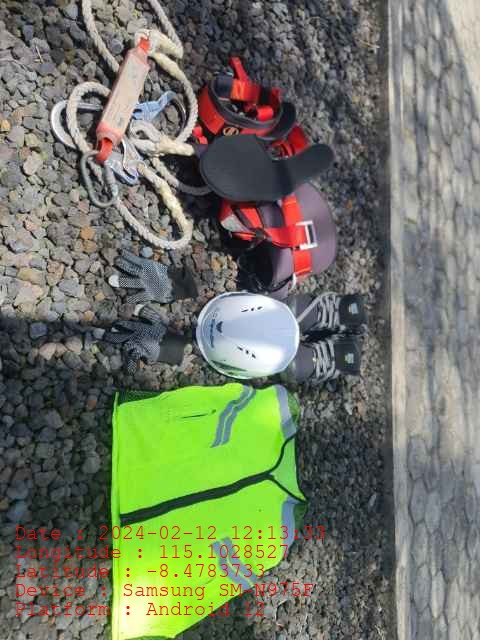HELM: (196, 291, 299, 379)
TAMBANG_SLING: (52, 1, 198, 251)
